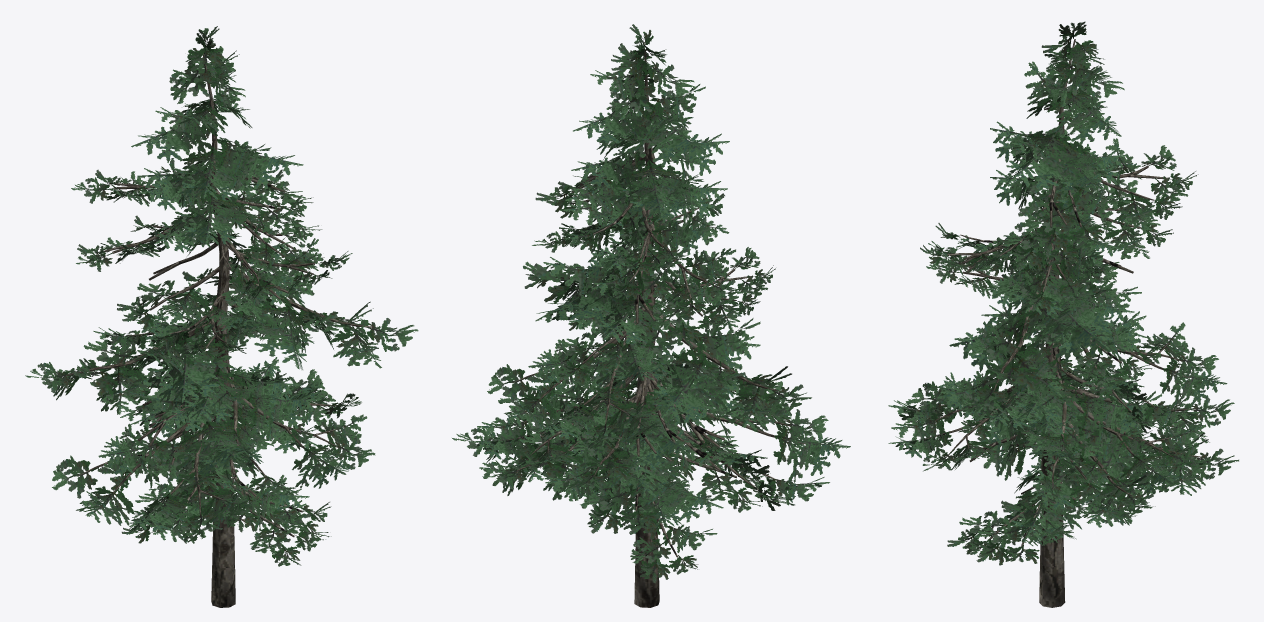
The model's file is Tree2-1.fbx.
3 views of the same model, side by side, from view 1: azimuth 30°, elevation 25°; view 2: azimuth 150°, elevation 25°; view 3: azimuth 270°, elevation 25° (orthographic). The views are drawn at different scales.
Parts seen in each view (by area): view 1: Tree2-1_LOD0; view 2: Tree2-1_LOD0; view 3: Tree2-1_LOD0.
Boxes of the visible parts, x1=… form: Tree2-1_LOD0: x1=25, y1=26, x2=418, y2=607; Tree2-1_LOD0: x1=452, y1=24, x2=850, y2=607; Tree2-1_LOD0: x1=888, y1=21, x2=1238, y2=607.
Size of what is drawn, in the model's own units: 3.2 by 2.88 by 5.07.
